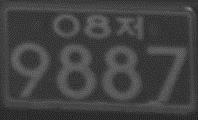0: (52, 12, 81, 39)
7: (146, 45, 187, 105)
8: (55, 42, 96, 101), (101, 43, 142, 102), (83, 13, 112, 40)
9: (9, 41, 49, 99)
저: (114, 14, 145, 40)
